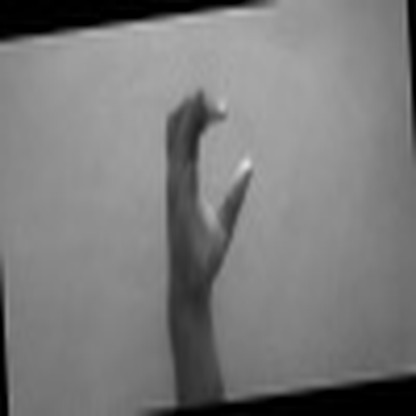c: (155, 87, 257, 285)
